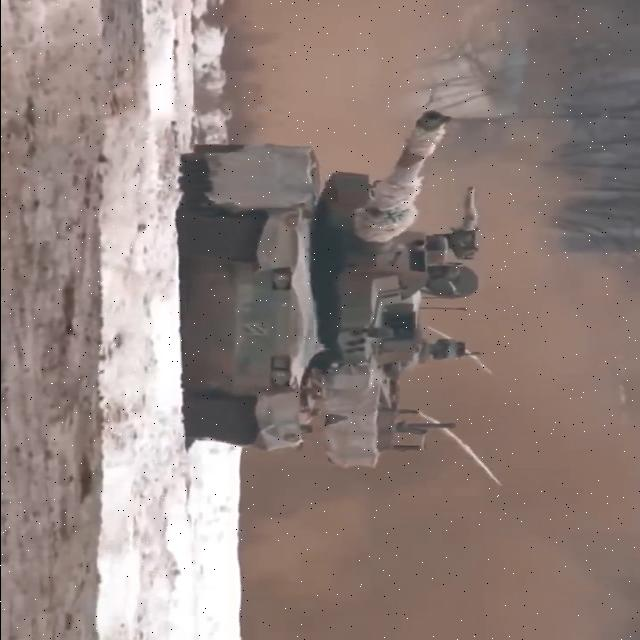korea tank: (172, 109, 482, 473)
